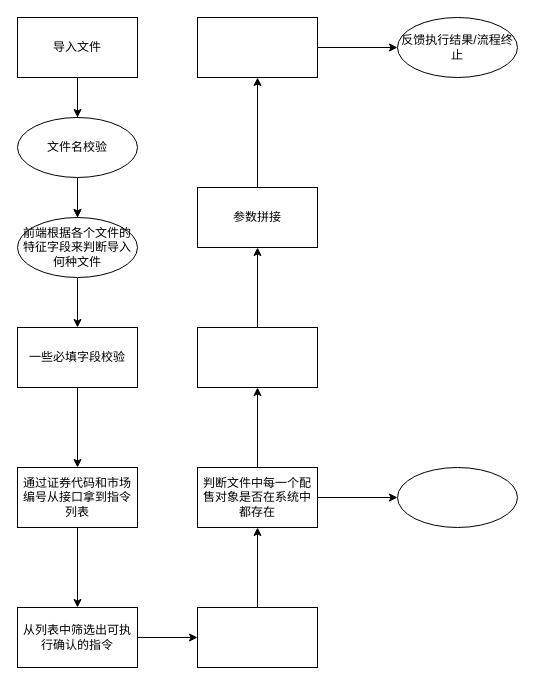
Some shapes in this 535 by 685 pixel diagram are drawn without their labels. The shapes that lost their labels are listed below. From the top down, each one's centre as x and y in pixels, then its label:
At (x=257, y=47): "通过5200222进行执行确认".
At (x=257, y=357): "利用接口查询出的配售对象的产品id去匹配可执行指令列表数据".
At (x=457, y=497): "报错/终止流程".
At (x=257, y=637): "指令序号去重，调用接口offlineapplyquery查询出对应的配置对象".
